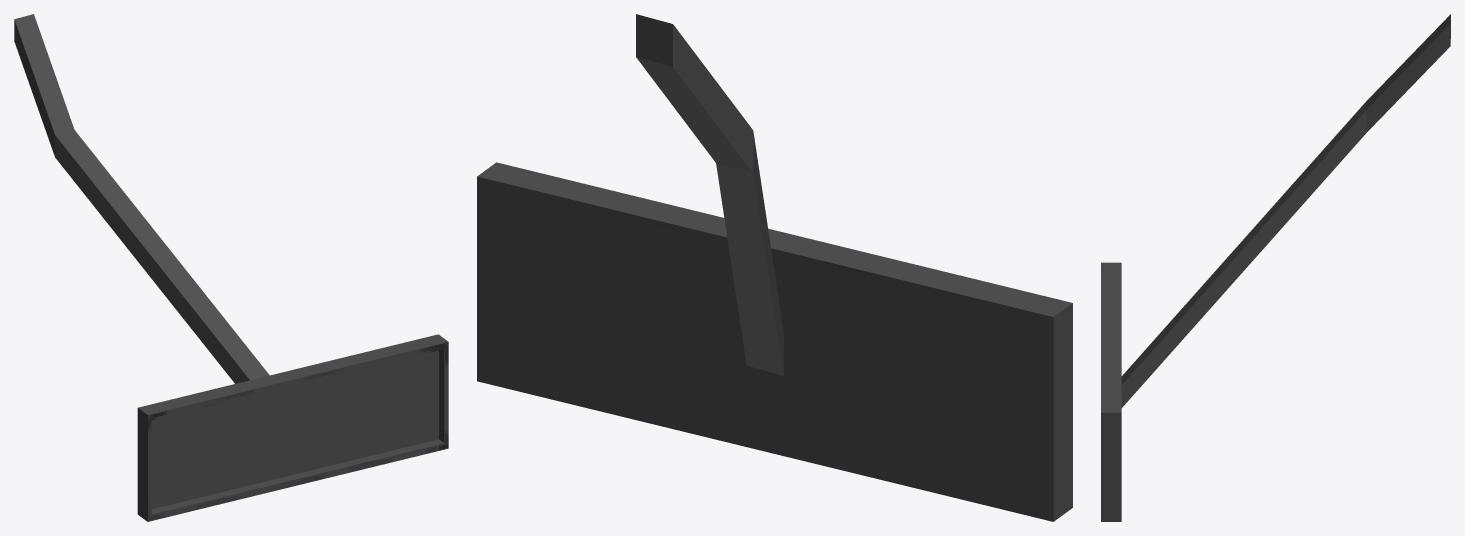
Rendered from monitor2.glb.
3 views of the same model, side by side, from view 1: azimuth 30°, elevation 25°; view 2: azimuth 150°, elevation 25°; view 3: azimuth 270°, elevation 25° (orthographic). The views are drawn at different scales.
Parts seen in each view (by area): view 1: Monitor2; view 2: Monitor2; view 3: Monitor2.
Part boxes in pixels (x1=…): Monitor2: x1=14, y1=14, x2=448, y2=521; Monitor2: x1=477, y1=14, x2=1072, y2=521; Monitor2: x1=1101, y1=14, x2=1450, y2=521.
Bounding box in the file's own units: 1.42 × 1.67 × 1.4.
1 material, 1 textured.
